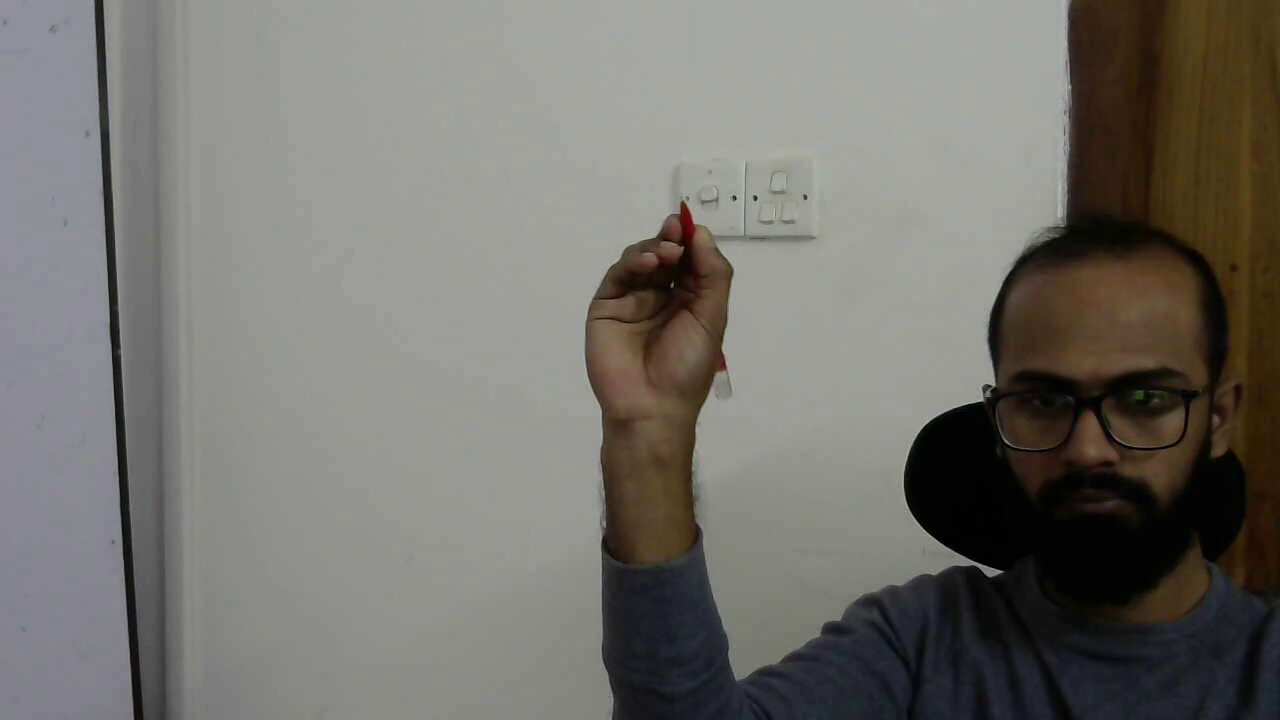pointer: (590, 210, 736, 373)
